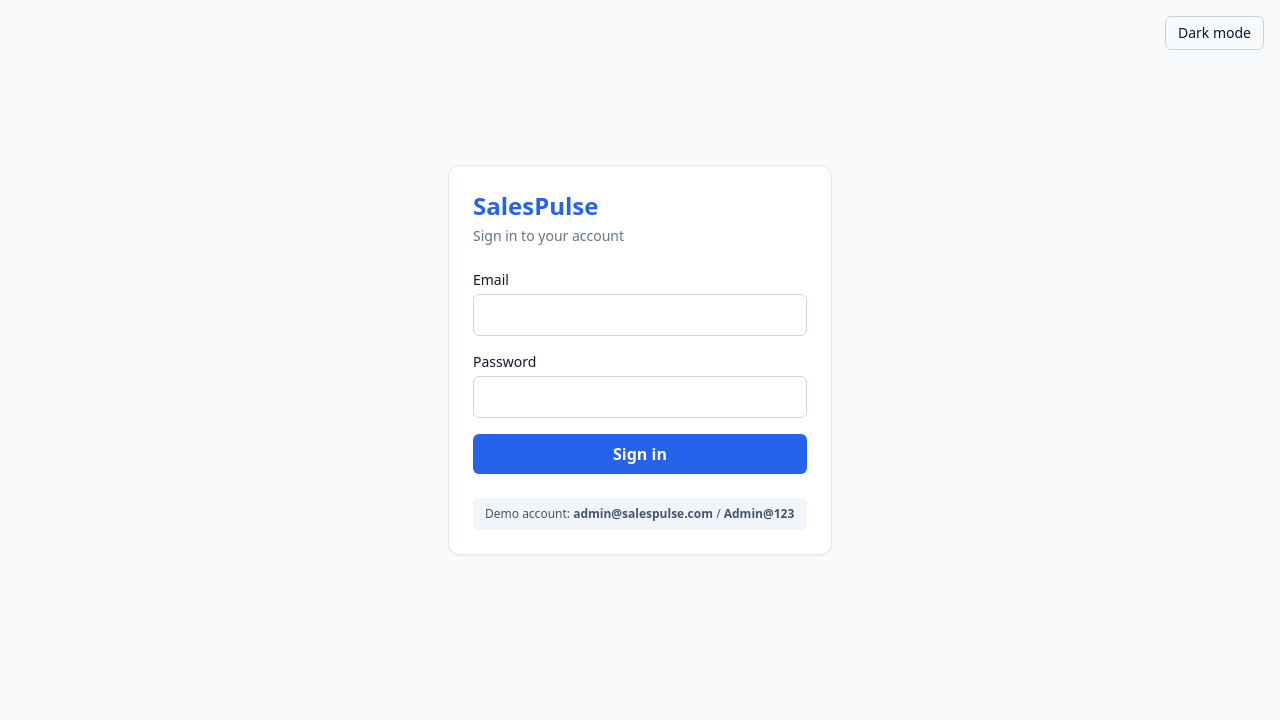
it: login form › logs out and returns to the login page
Type "admin@salespulse.com" into the field labelled "Email" at (640, 315), box [473,294,807,336]
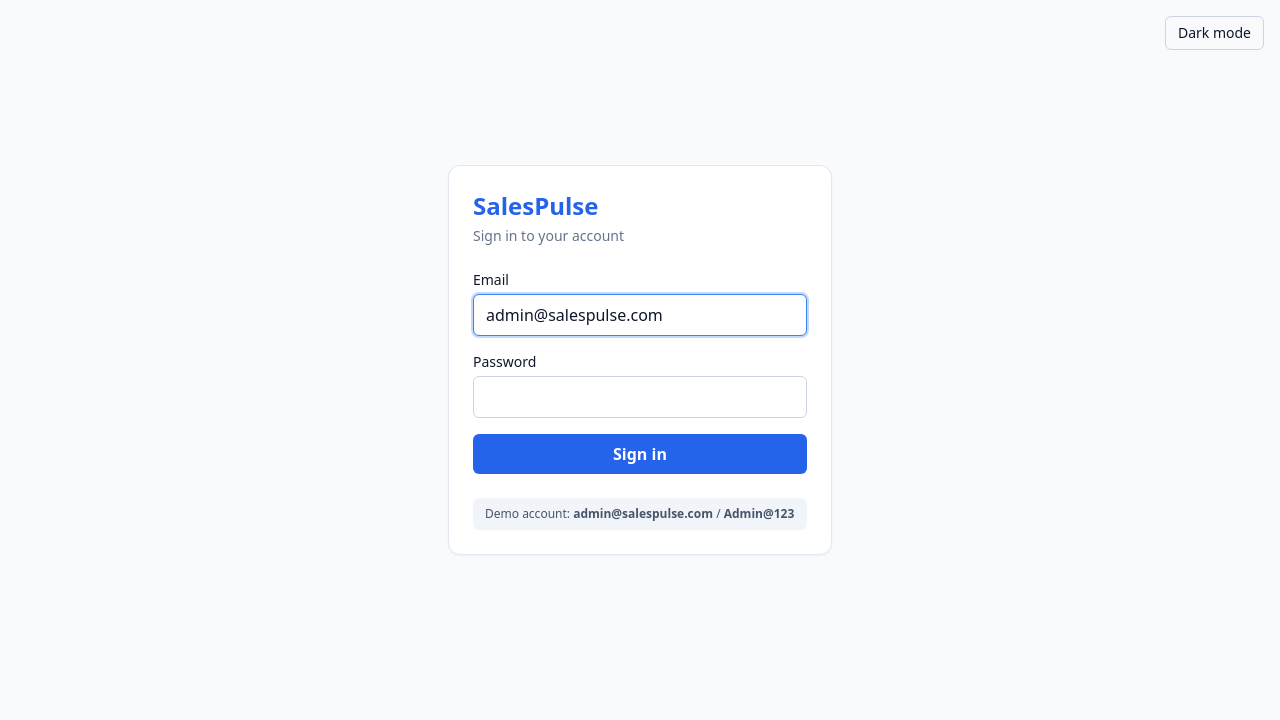
Type "Admin@123" into the password field labelled "Password" at (640, 397), box [473,376,807,418]
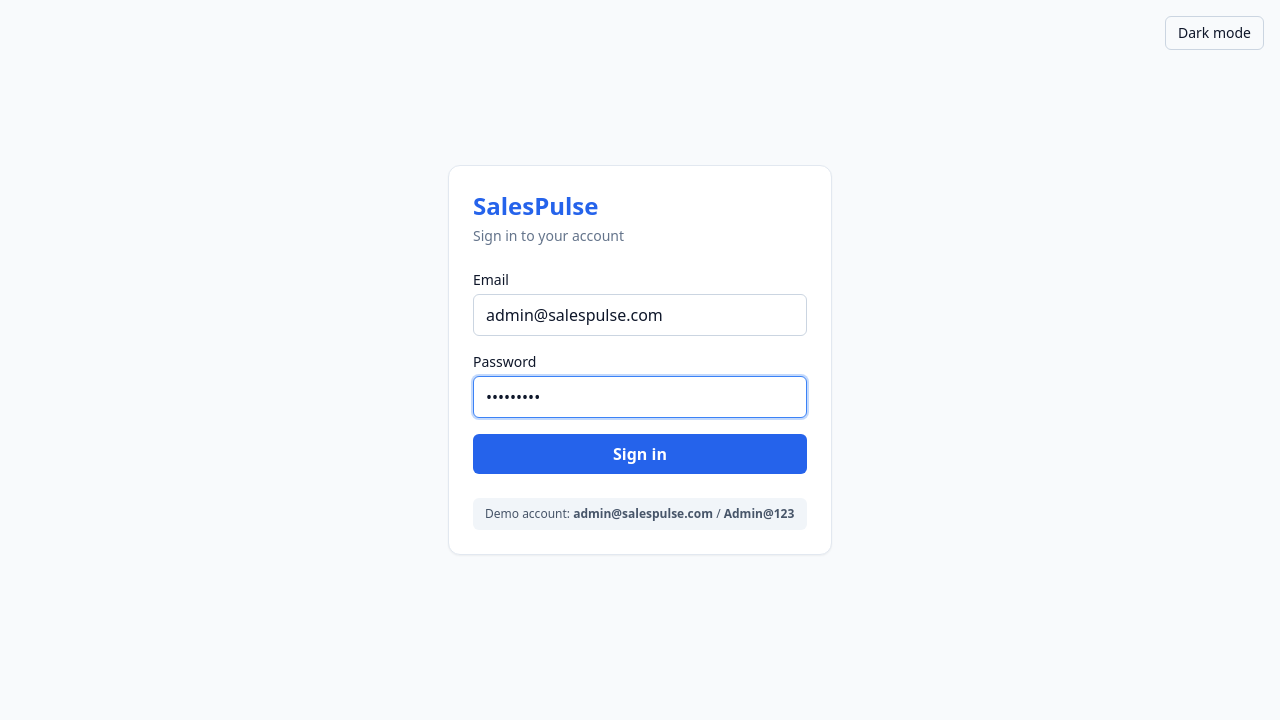
Click the button "Sign in" at (640, 454), box [473,434,807,474]
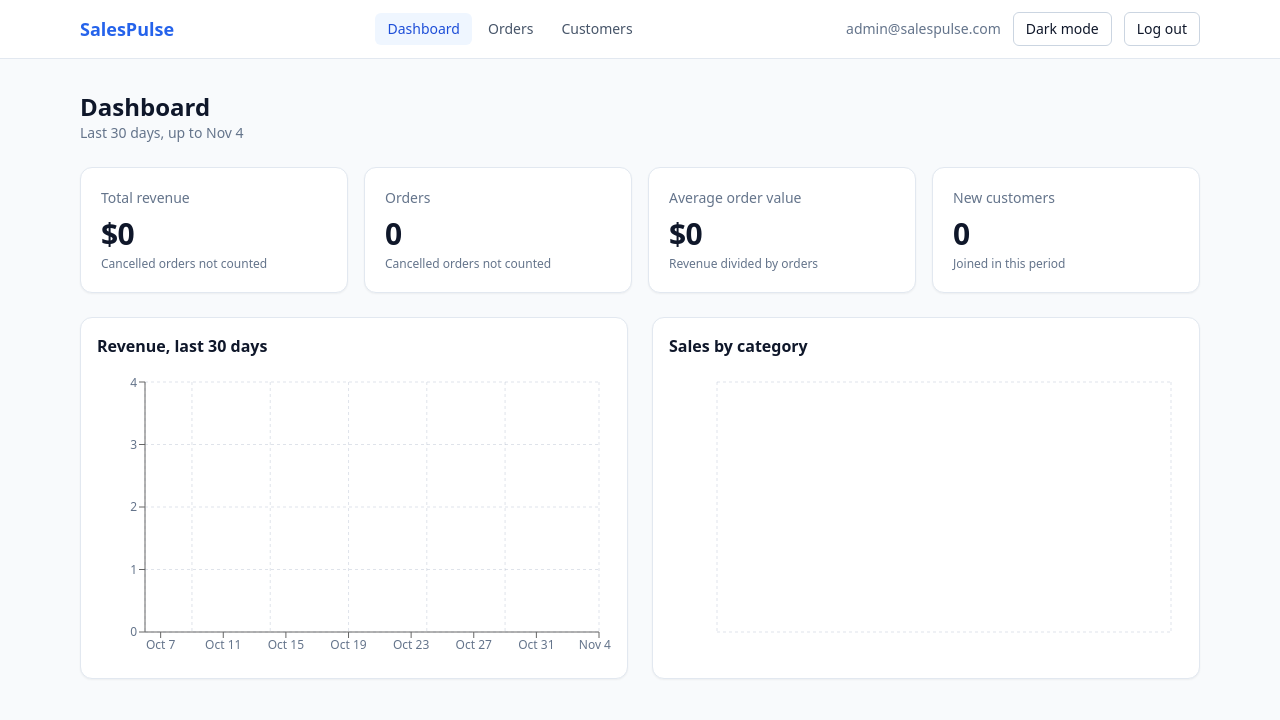
Check: the heading "Dashboard" is shown, box [80,90,210,123]
Click the button "Log out" at (1162, 29), box [1124,12,1200,46]
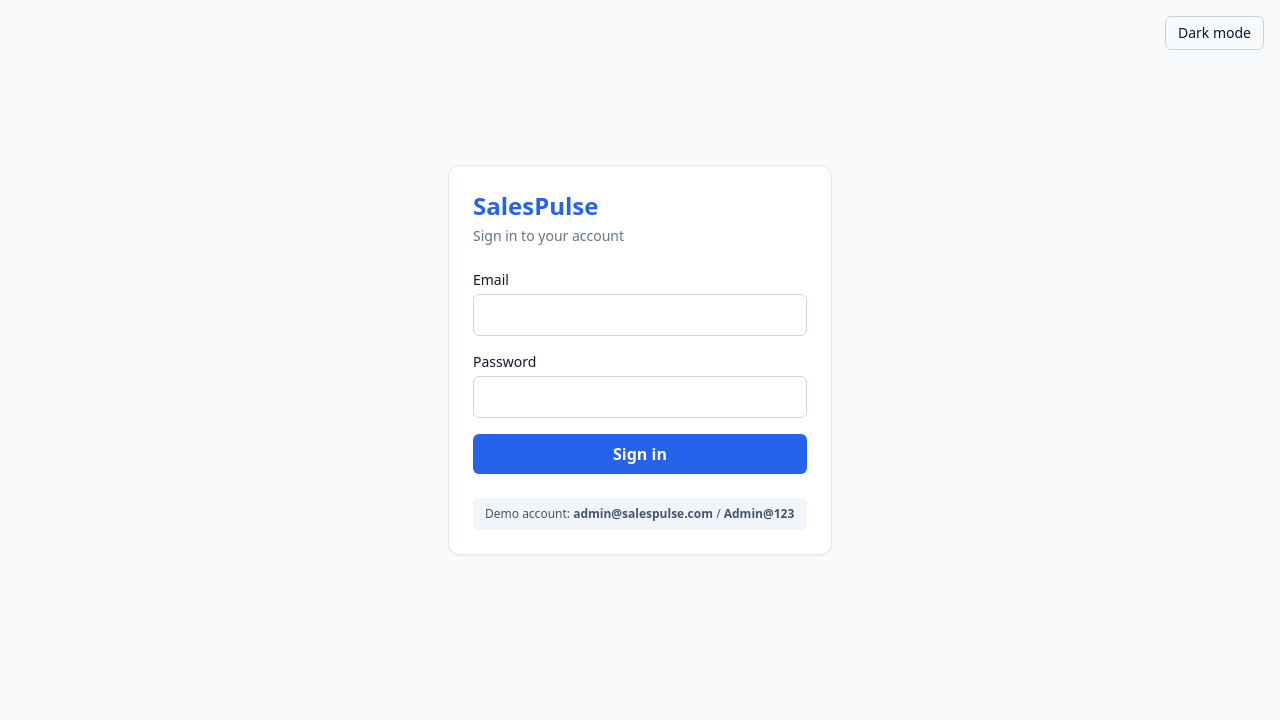
Check: the text "Sign in to your account" is shown, box [473,226,624,245]
